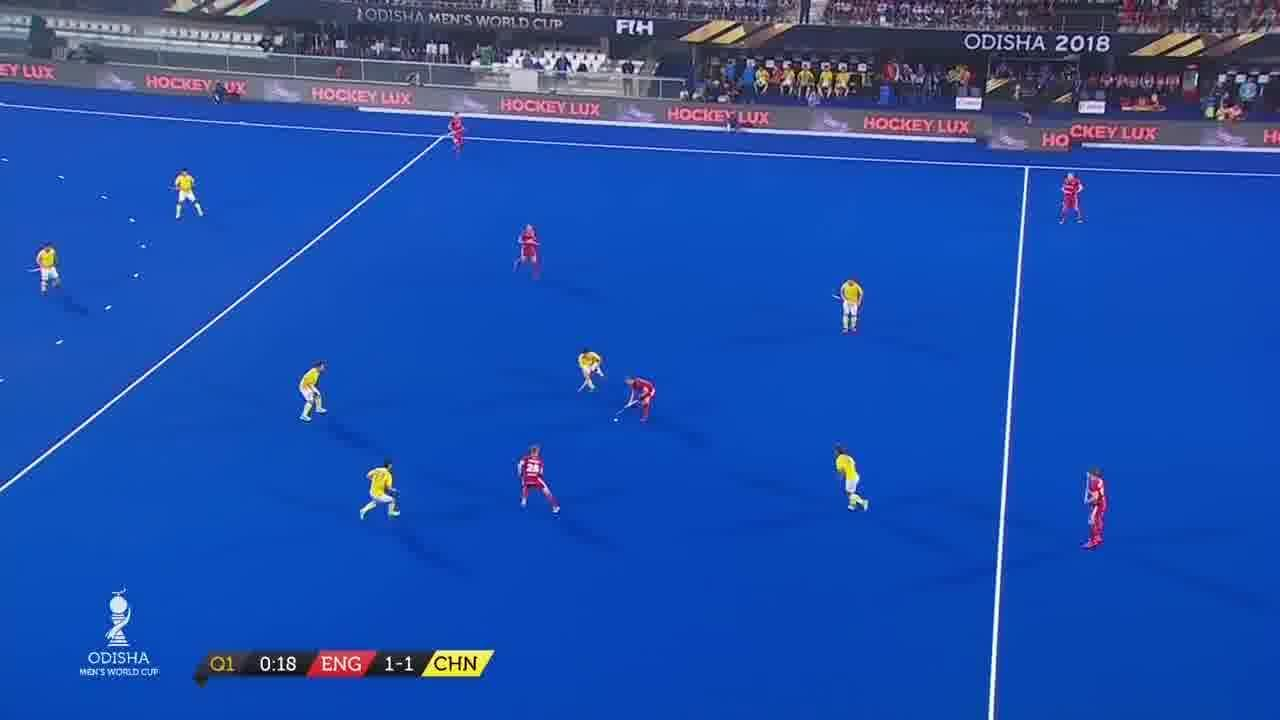ball: (614, 415, 626, 427)
